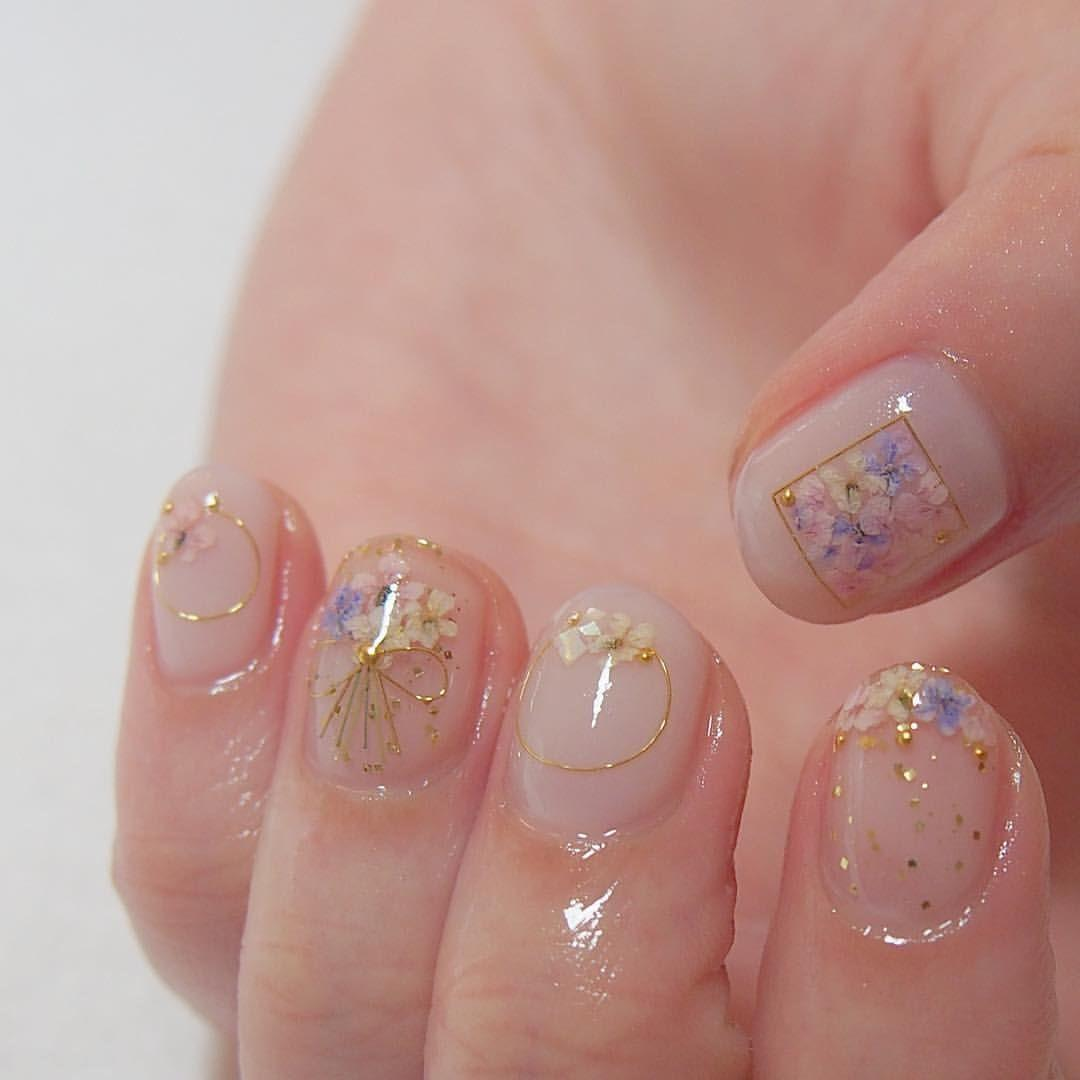nails: (728, 335, 1022, 630), (809, 648, 1018, 952), (494, 577, 716, 851), (302, 517, 489, 793), (141, 461, 288, 683)
